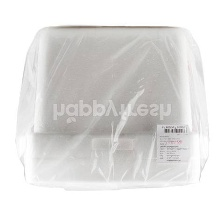foam_box: (10, 20, 214, 198)
